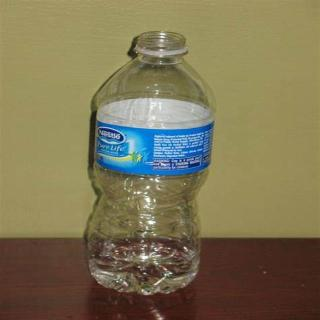Anorganik: (80, 28, 216, 300)
